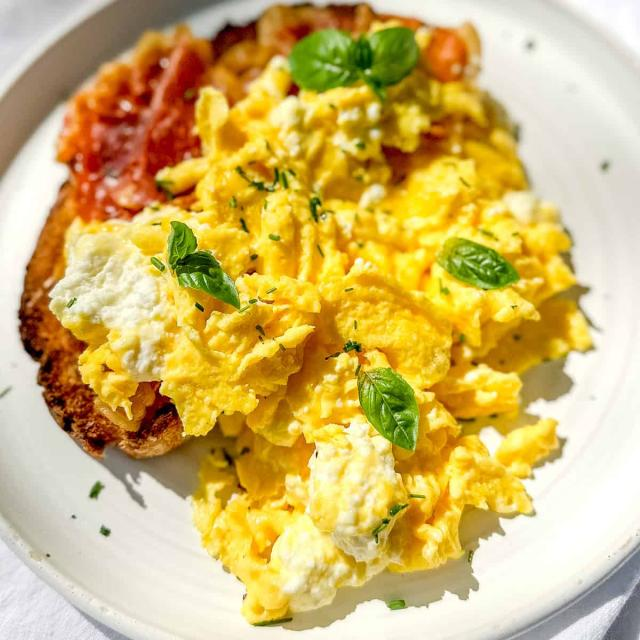eggs: (155, 111, 518, 531)
